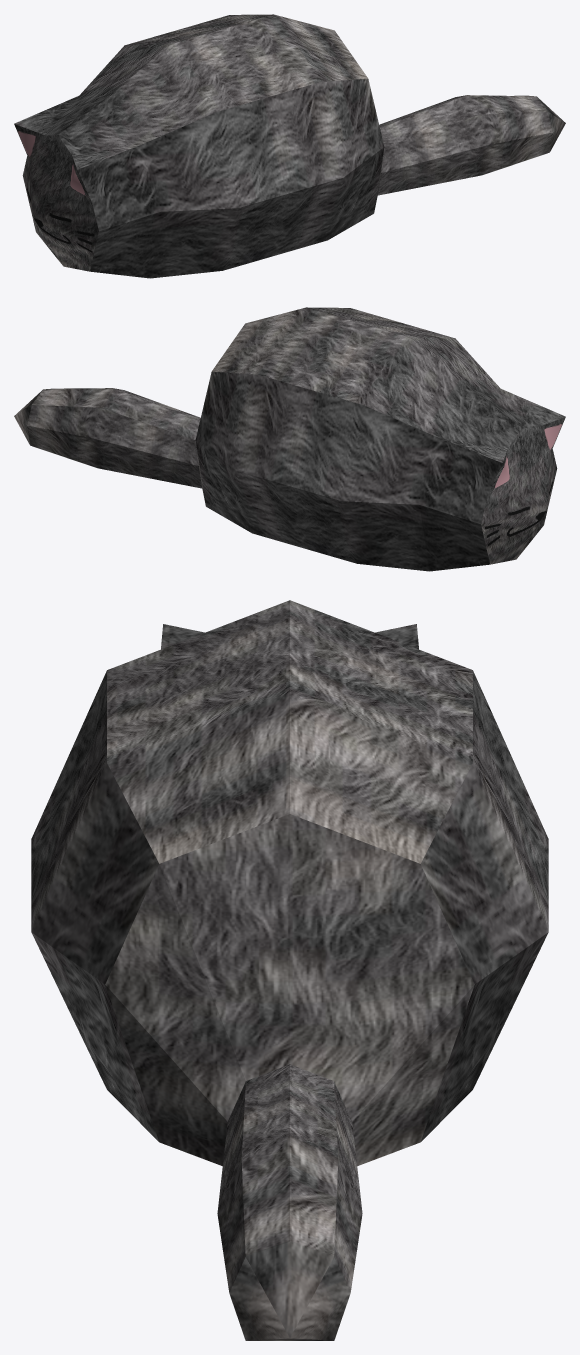
The model's file is Pussy.fbx.
The picture shows the model from 3 angles, top to bottom: view 1: azimuth 30°, elevation 25°; view 2: azimuth 150°, elevation 25°; view 3: azimuth 270°, elevation 25°; orthographic projection. The views are drawn at different scales.
Parts seen in each view (by area): view 1: pCylinder16; view 2: pCylinder16; view 3: pCylinder16.
Boxes of the visible parts, x1,y1,x2,y2 form: pCylinder16: [14, 14, 565, 278]; pCylinder16: [14, 307, 565, 571]; pCylinder16: [31, 600, 548, 1340].
Bounding box in the file's own units: 37.4 × 13.54 × 15.71.
Materials: 2 (2 with a texture image).
